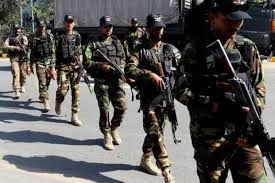gun: (191, 29, 268, 154), (148, 55, 181, 140), (88, 45, 135, 88), (65, 48, 98, 99)
uniform: (172, 23, 264, 170), (133, 36, 179, 173), (86, 31, 124, 139), (52, 24, 81, 120), (28, 29, 56, 106), (126, 15, 147, 91), (9, 22, 27, 99)
